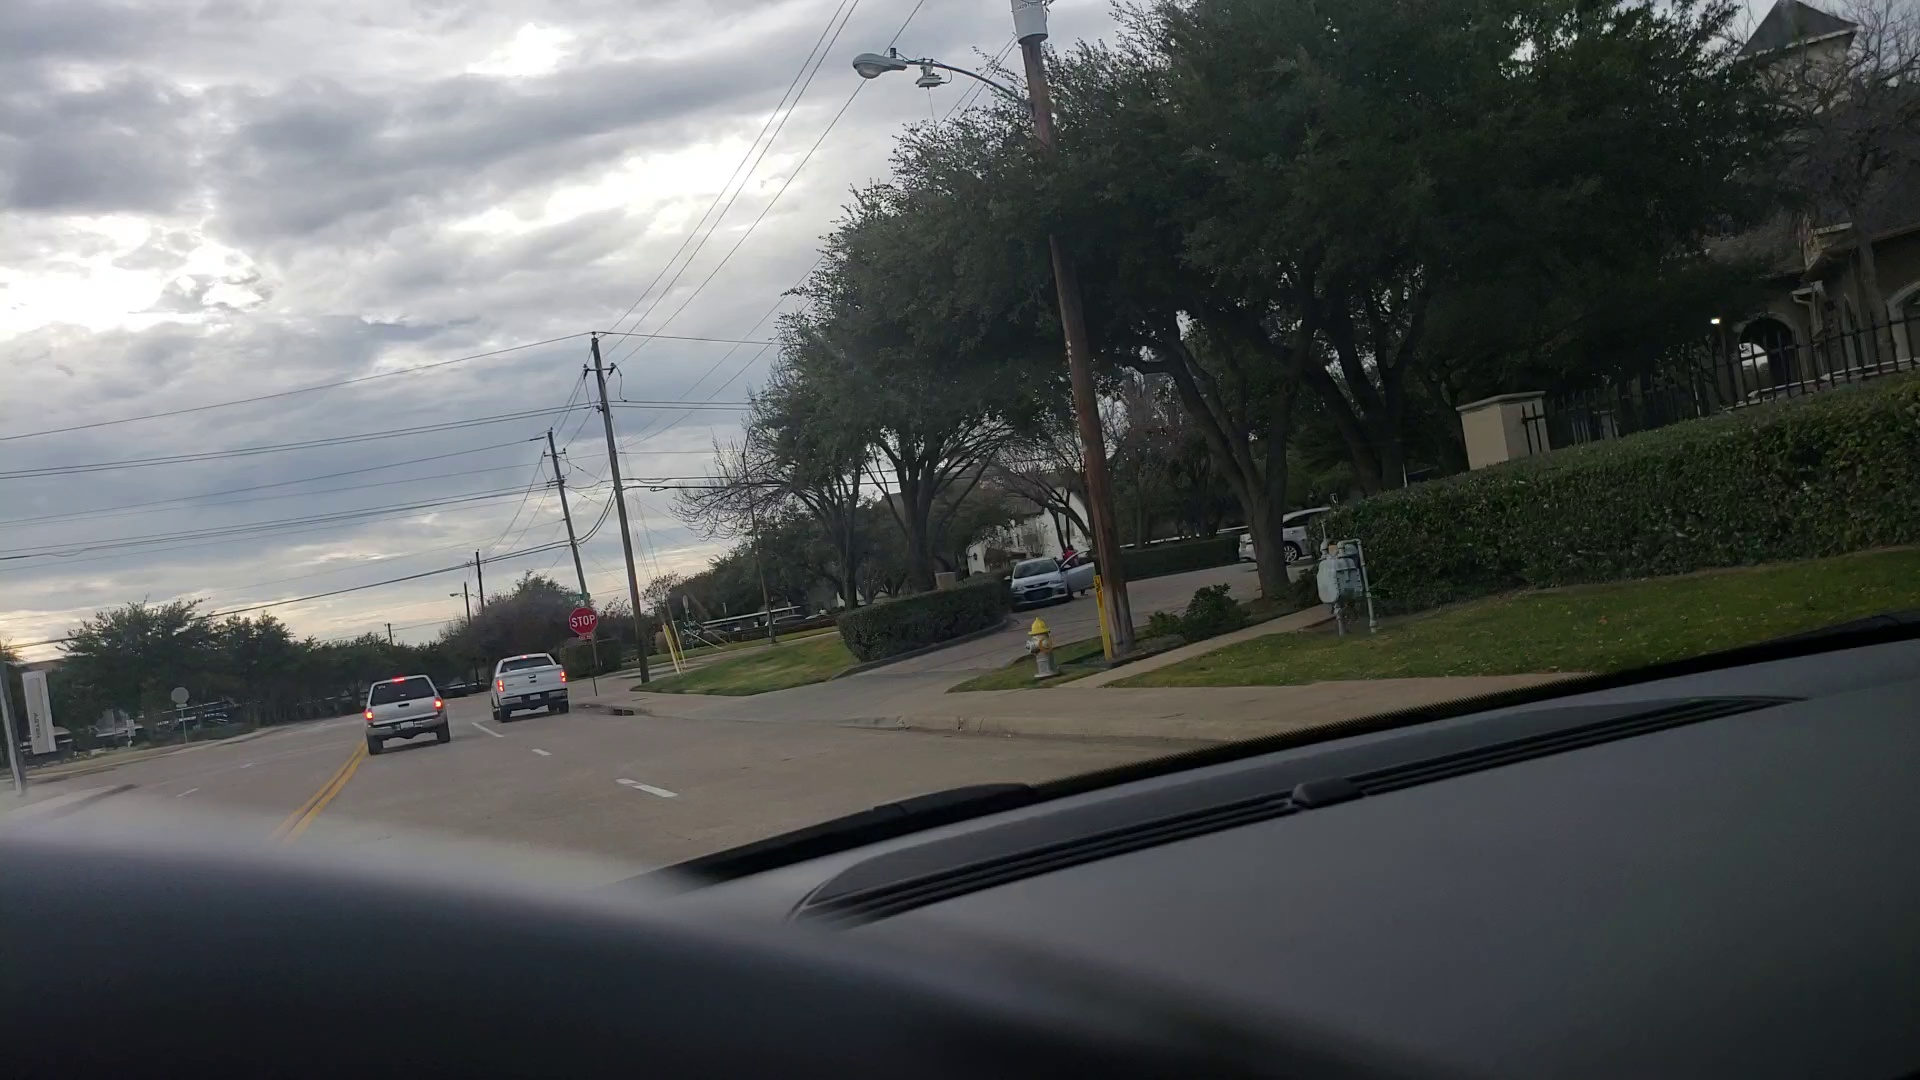car: (1005, 554, 1092, 601)
stop sign: (566, 611, 601, 640)
truck: (359, 680, 450, 750), (487, 661, 575, 724)
